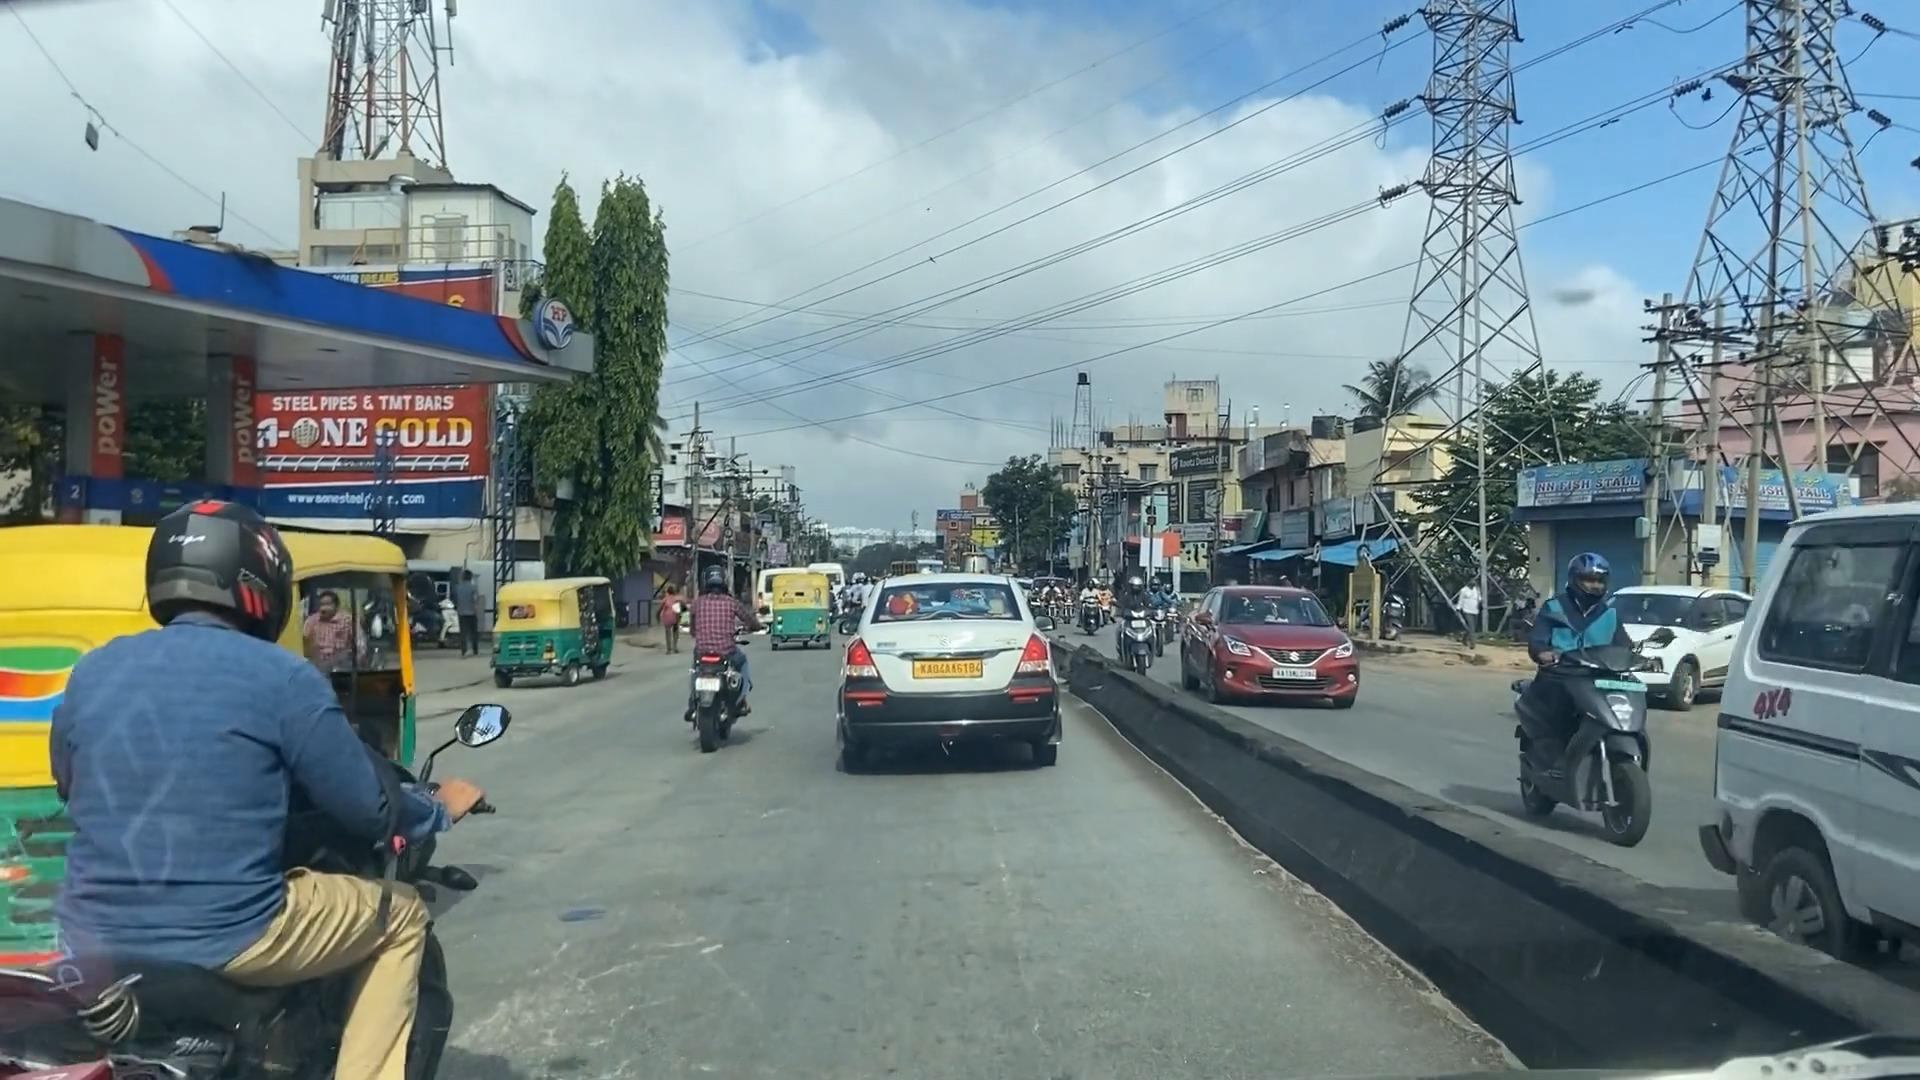LMV: (837, 558, 1069, 770), (670, 554, 754, 756)
